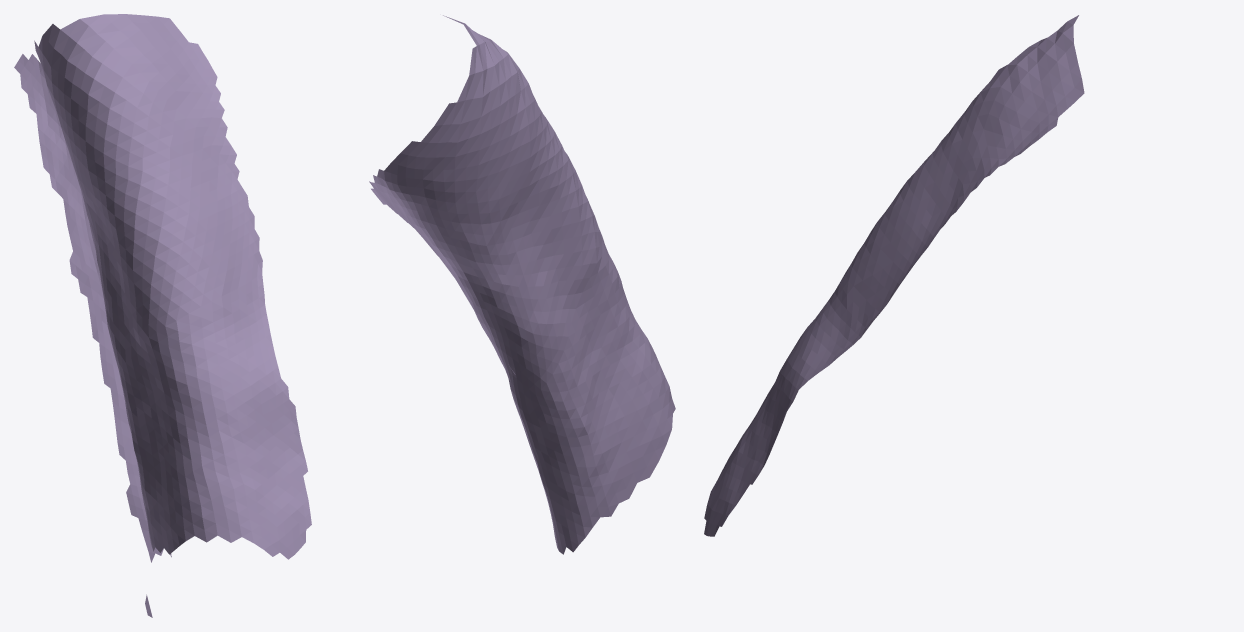
File: rh_caudalanteriorcingulate.glb
3 views of the same model, side by side, from view 1: azimuth 30°, elevation 25°; view 2: azimuth 150°, elevation 25°; view 3: azimuth 270°, elevation 25° (orthographic). The views are drawn at different scales.
Visible parts, largest first — view 1: world; view 2: world; view 3: world.
Boxes of the visible parts, x1=… form: world: x1=14, y1=14, x2=311, y2=617; world: x1=369, y1=15, x2=675, y2=554; world: x1=704, y1=15, x2=1084, y2=536.
Size of the model in its own units: 10.54 by 37.59 by 29.29.
